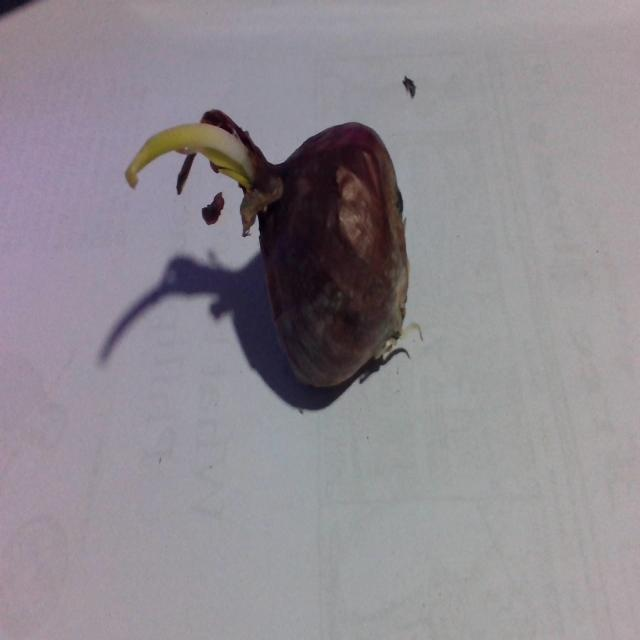onion: (247, 112, 413, 401)
